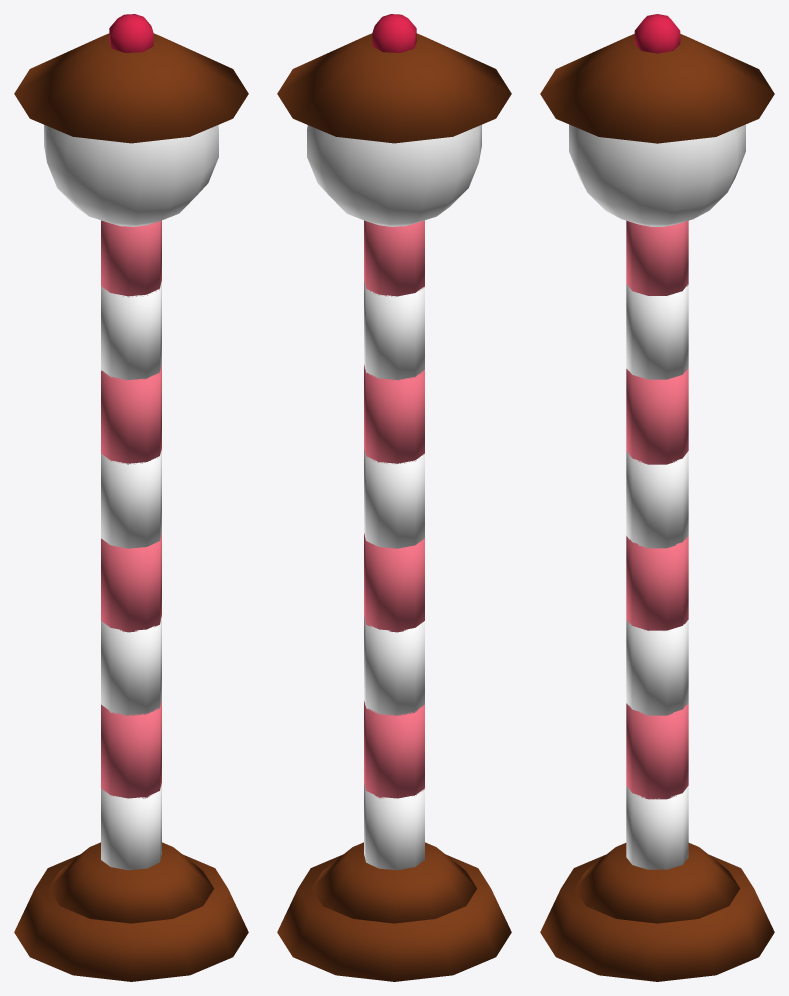
Rendered from build-lamp.glb.
3 views of the same model, side by side, from view 1: azimuth 30°, elevation 25°; view 2: azimuth 150°, elevation 25°; view 3: azimuth 270°, elevation 25° (orthographic).
Parts seen in each view (by area): view 1: build-lamp; view 2: build-lamp; view 3: build-lamp.
Boxes of the visible parts, x1,y1,x2,y2 form: build-lamp: (14, 14, 248, 981); build-lamp: (277, 14, 511, 981); build-lamp: (540, 14, 774, 981).
Bounding box in the file's own units: 0.34 × 1.46 × 0.34.
2 materials, 1 textured.
